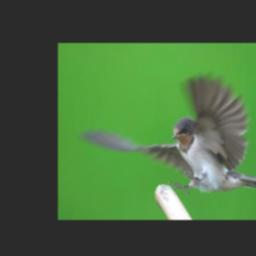Swallow: (82, 72, 256, 194)
